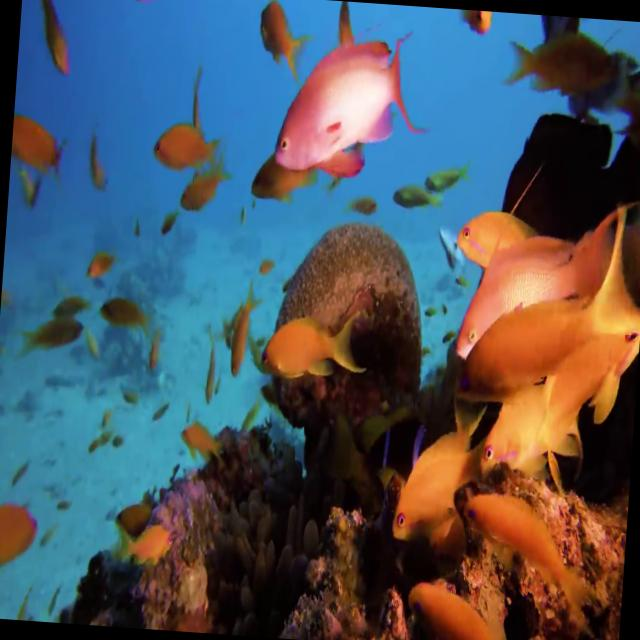fish: (258, 9, 431, 195), (449, 477, 619, 640), (468, 342, 632, 502), (458, 200, 618, 357), (456, 274, 629, 403), (383, 401, 481, 562), (242, 294, 368, 406), (492, 12, 623, 108), (452, 171, 552, 278), (399, 561, 530, 640), (19, 0, 97, 96), (239, 0, 320, 80), (161, 154, 240, 232), (150, 107, 228, 183), (8, 114, 70, 195), (0, 483, 50, 572), (427, 138, 472, 200), (388, 174, 438, 222)
